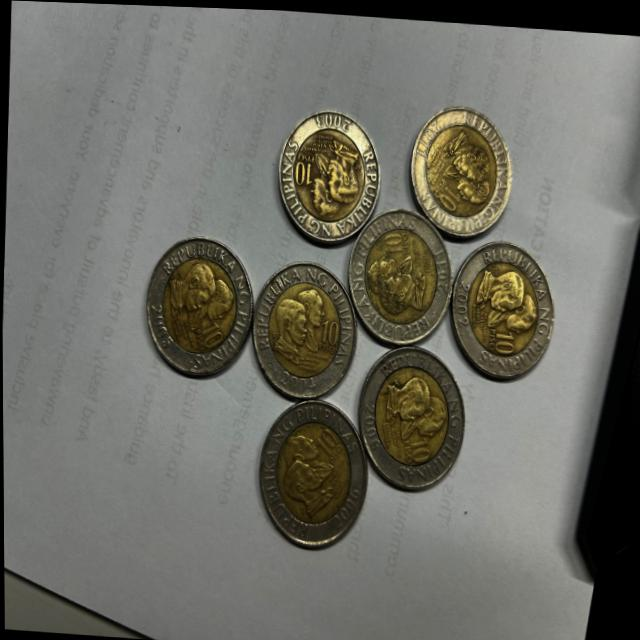10_Old_Front: (406, 430, 434, 465), (319, 309, 342, 345), (200, 315, 223, 349), (313, 423, 339, 453), (490, 322, 515, 352), (292, 153, 315, 183), (380, 225, 403, 255), (438, 179, 459, 208)
